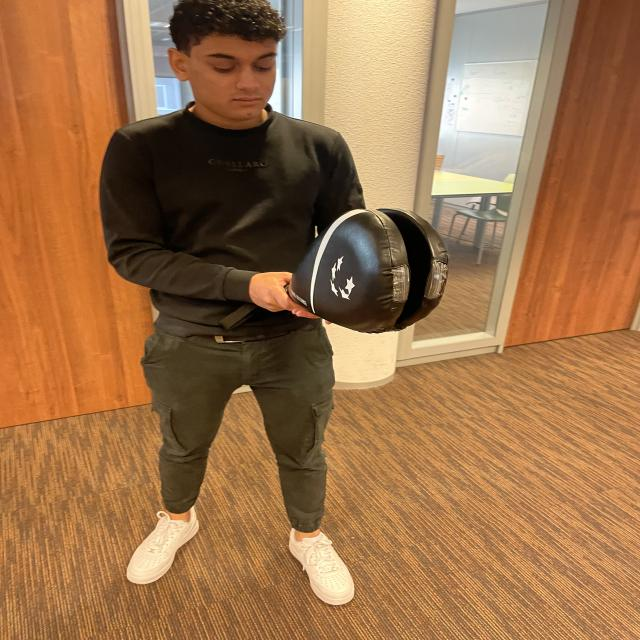paddle: (293, 209, 446, 331)
